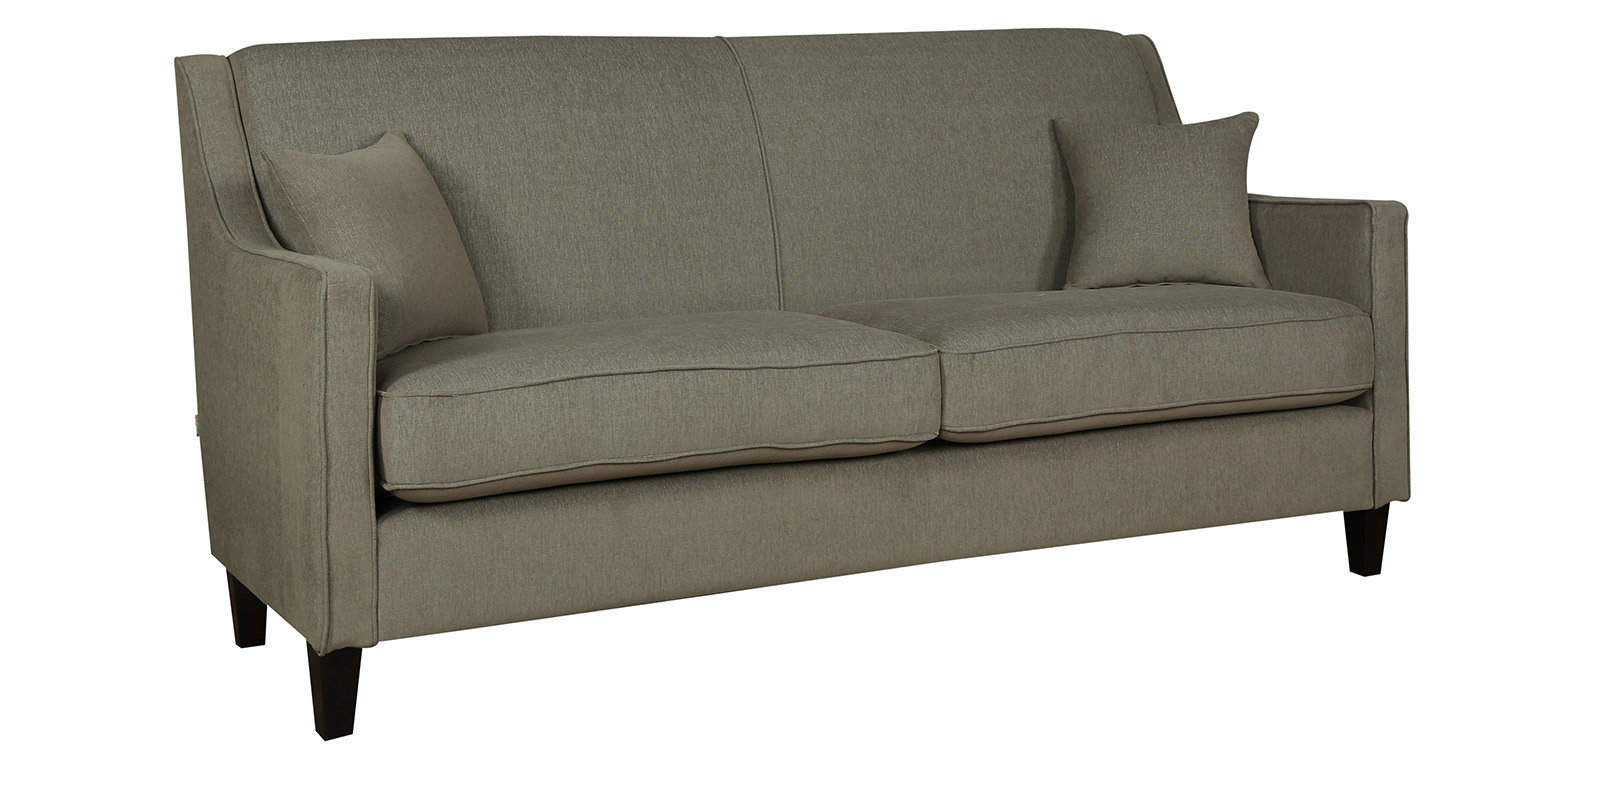Oscar Three Seater Sofa in Sandy Brown Colour by CasaCraft: (170, 26, 1408, 744)
